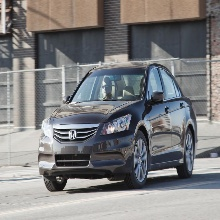no damage: (38, 63, 197, 191)
